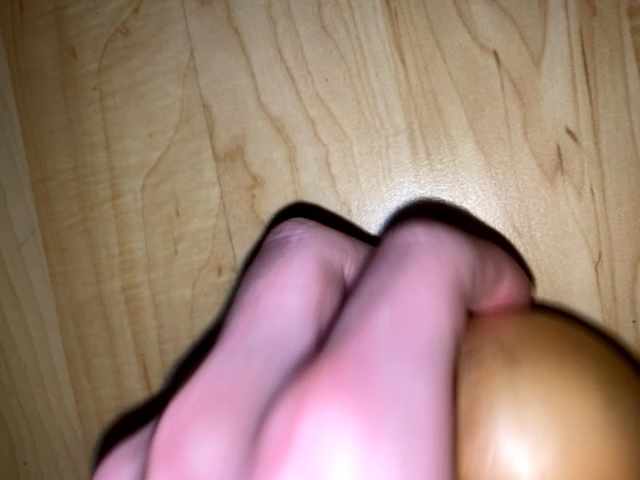onion: (464, 304, 640, 480)
